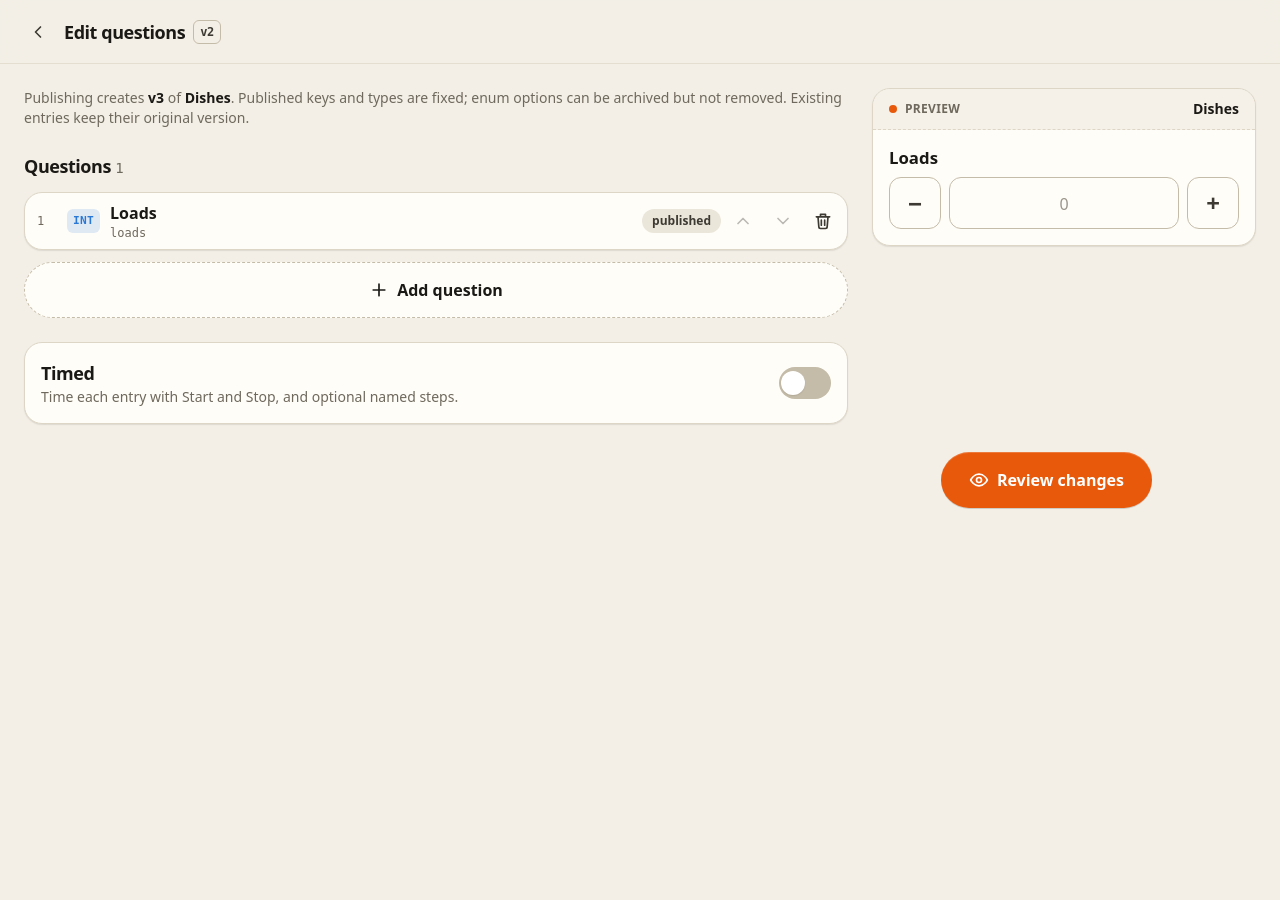
Test: EditQuestionsPage publish › turns timing on as a stopwatch, and off again
Click the switch named "Timed" at [805, 383], box x1=779 y1=367 x2=831 y2=399
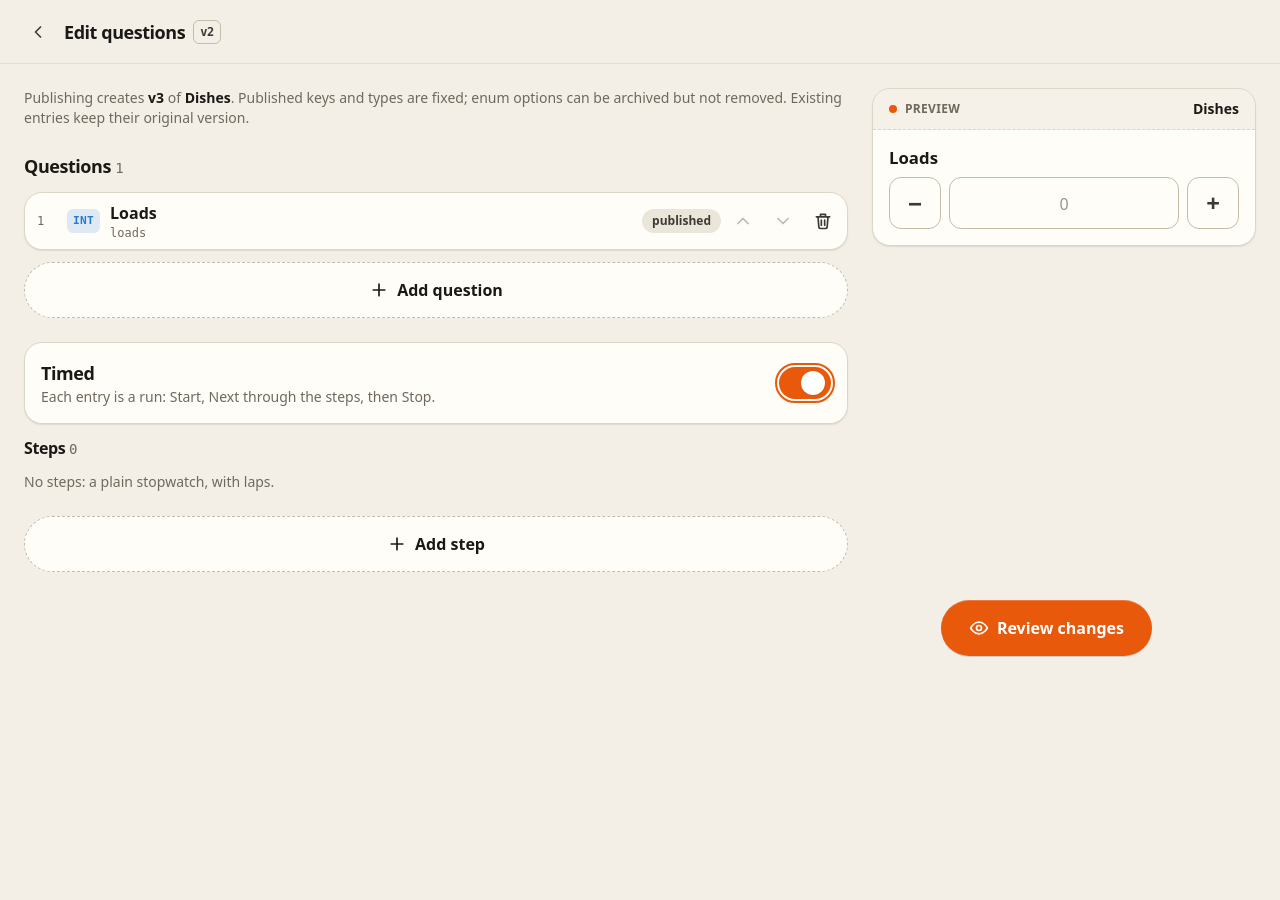
Expected: the text "No steps: a plain stopwatch, with laps." is shown, x1=24 y1=472 x2=274 y2=491
Click the button "Review changes" at [1046, 628], box x1=941 y1=600 x2=1152 y2=656
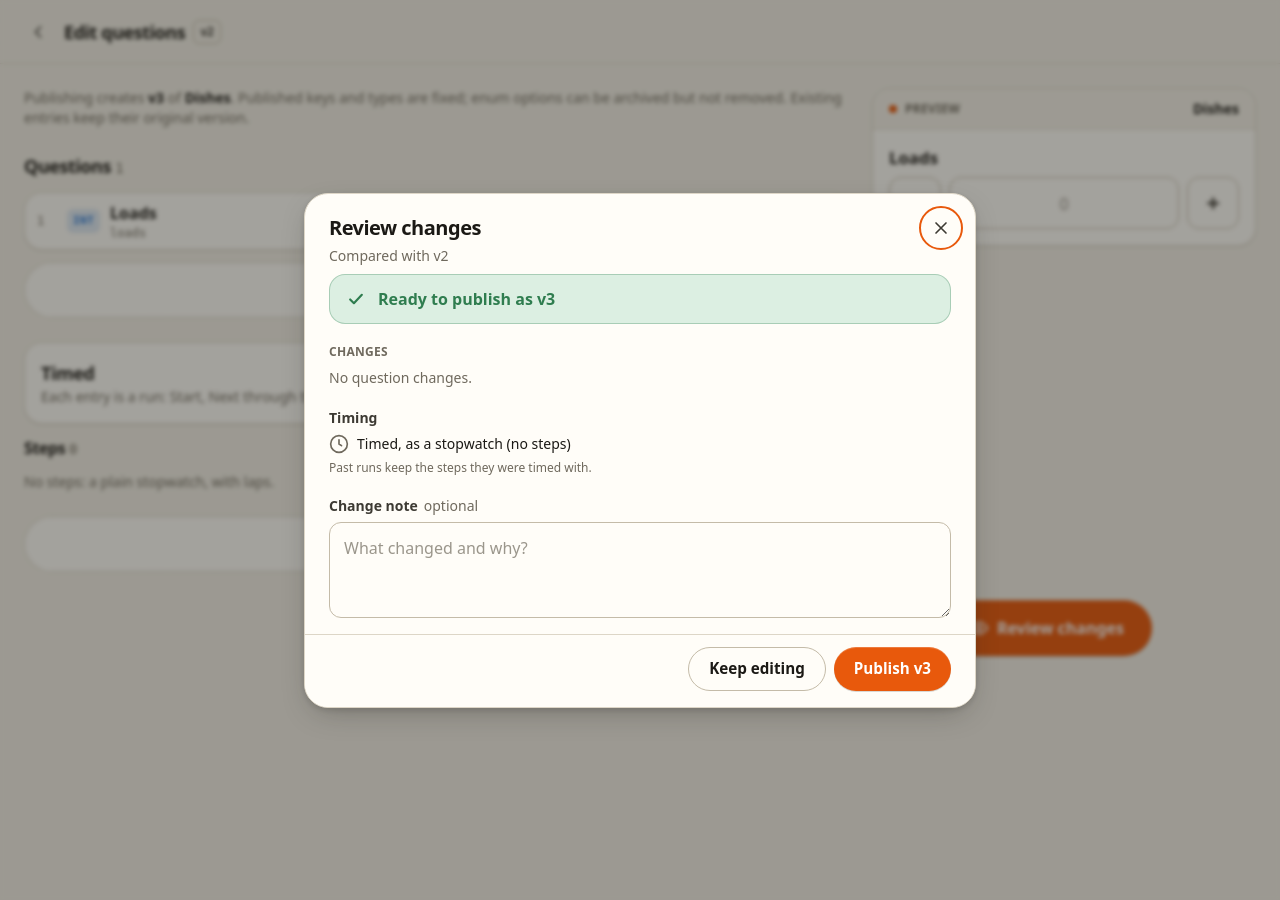
Click the button "Publish v3" at [892, 668], box x1=834 y1=646 x2=951 y2=690
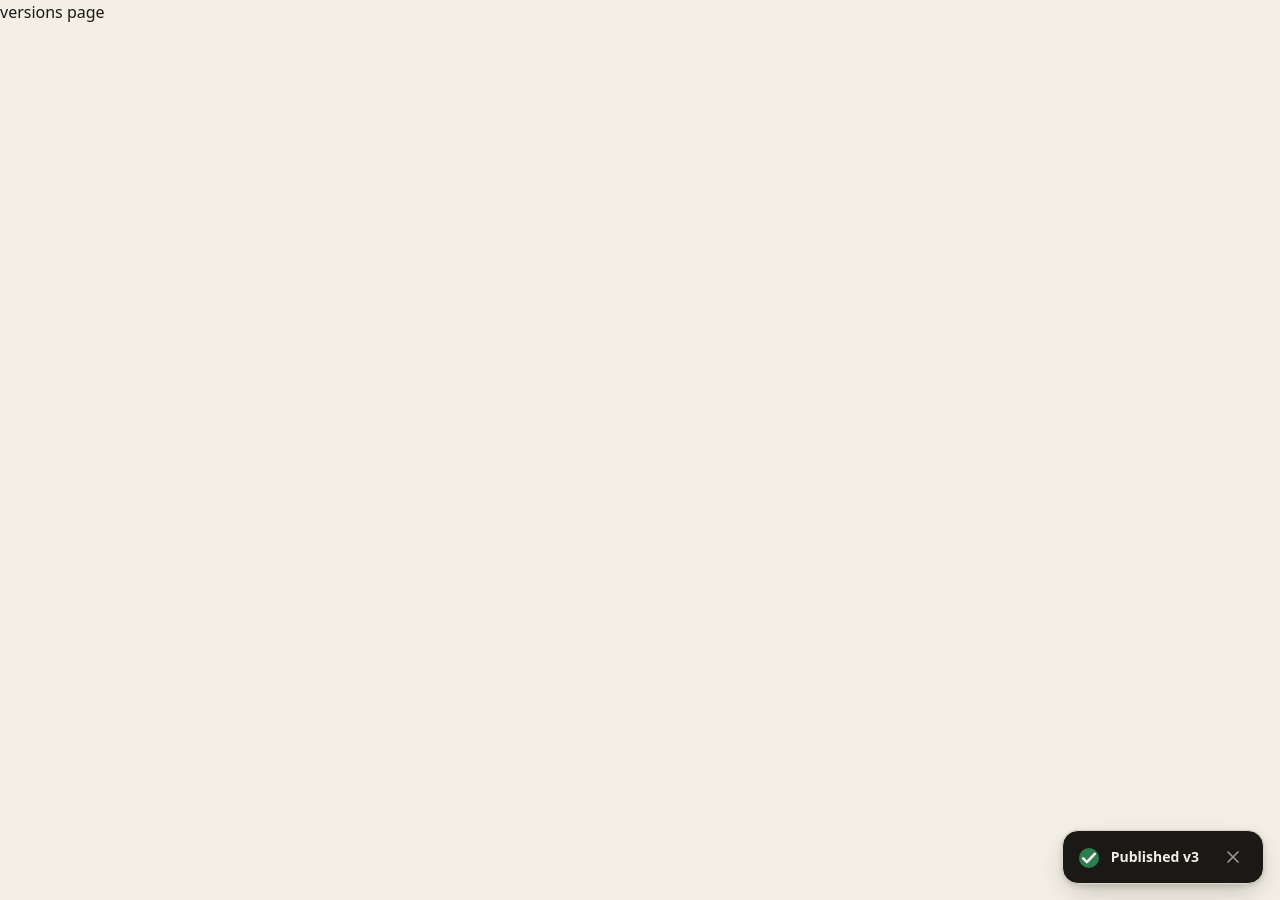
Expected: the text "versions page" is shown, x1=0 y1=1 x2=105 y2=23
